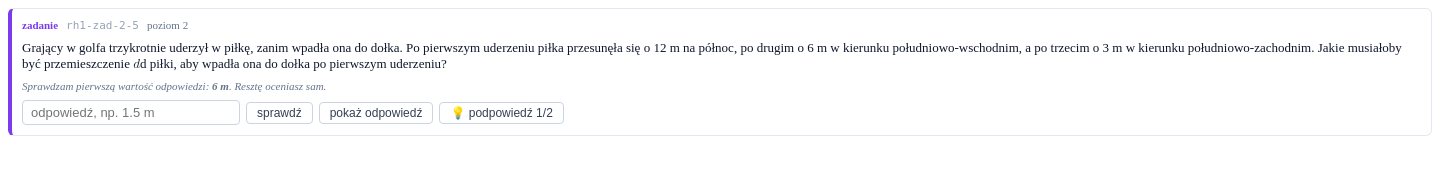
zadanie 2-5 z Resnicka › sama liczba bez jednostki to za mało
Type "6" into the field with placeholder "odpowiedź, np. 1.5 m". click: (131, 112)
box: [22,100,240,125]
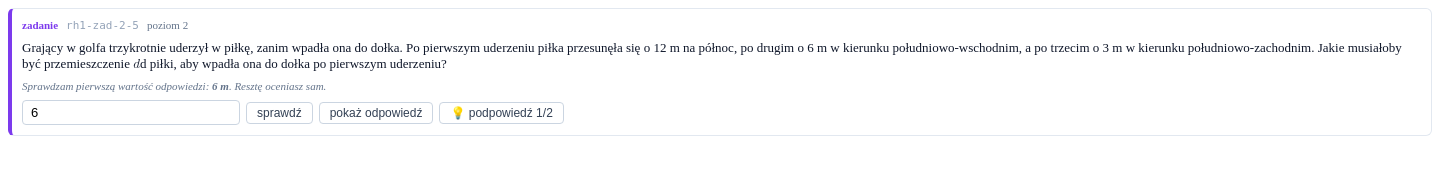
Click the button "sprawdź". click: (279, 112)
box: [246,102,313,124]
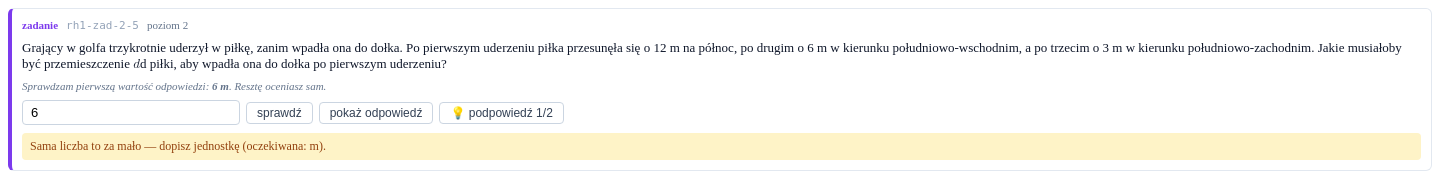
Now the text "jednostk" is shown, box [30,139,326,153]
